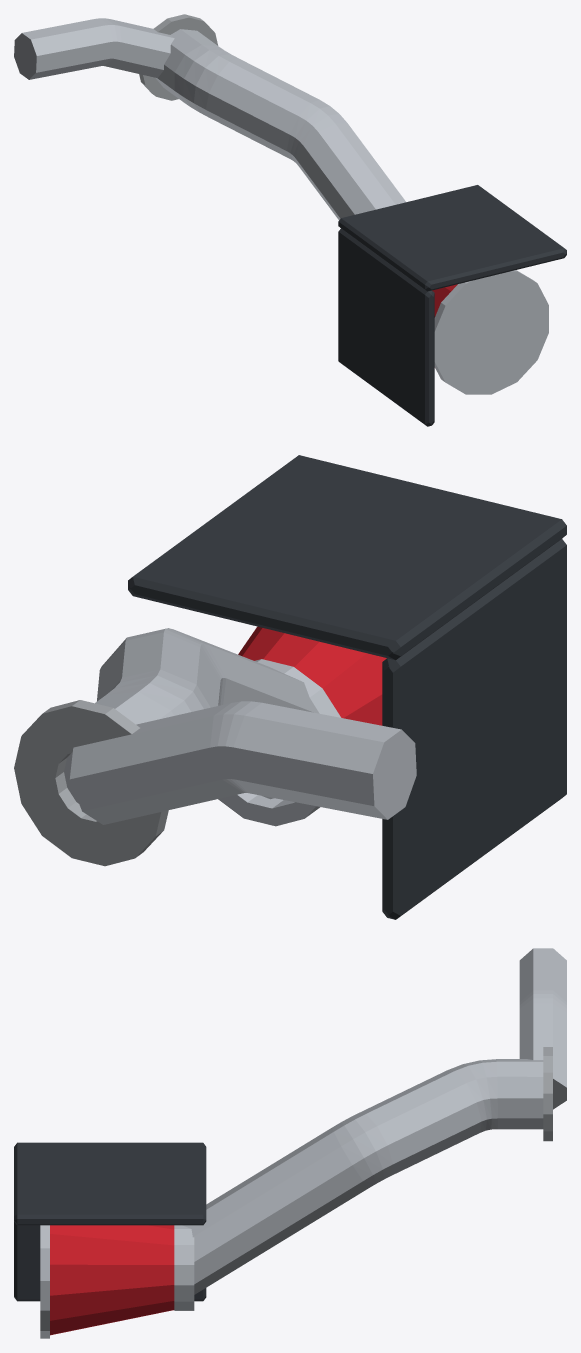
The model's file is brute_500.glb.
The picture shows the model from 3 angles, top to bottom: view 1: azimuth 30°, elevation 25°; view 2: azimuth 150°, elevation 25°; view 3: azimuth 270°, elevation 25°; orthographic projection. The views are drawn at different scales.
Visible parts, largest first — view 1: model; view 2: model; view 3: model.
Boxes of the visible parts, x1,y1,x2,y2 form: model: [14, 14, 566, 426]; model: [14, 455, 566, 919]; model: [14, 948, 566, 1338].
Bounding box in the file's own units: 0.4615 × 0.3695 × 0.6896.
2 materials, 1 textured.
